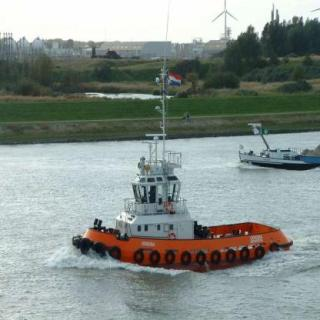Tug Boat: (77, 134, 291, 270)
